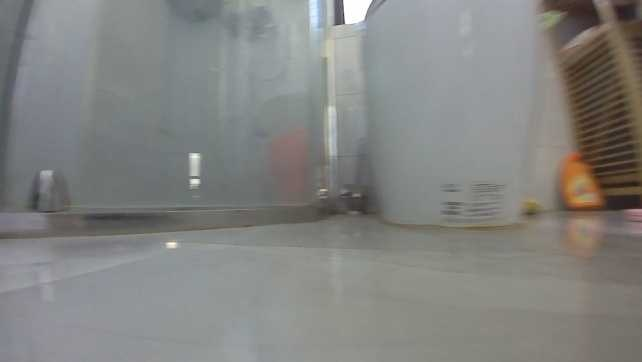toilet: (350, 0, 539, 237)
